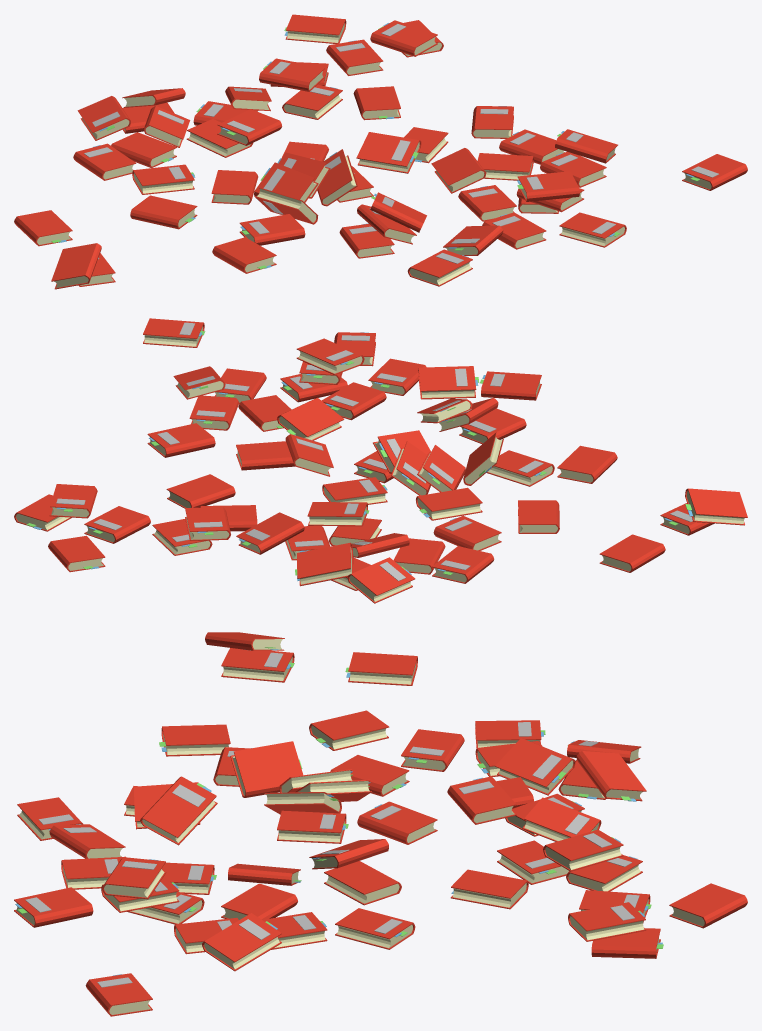
Rendered from booksPile.fbx.
The picture shows the model from 3 angles, top to bottom: view 1: azimuth 30°, elevation 25°; view 2: azimuth 150°, elevation 25°; view 3: azimuth 270°, elevation 25°; orthographic projection. The views are drawn at different scales.
Parts seen in each view (by area): view 1: book_01.859; view 2: book_01.859; view 3: book_01.859.
Part boxes in pixels (x1,y1,x2,y2): book_01.859: (14,14,747,289); book_01.859: (14,318,747,603); book_01.859: (14,632,747,1016).
Bounding box in the file's own units: 410 × 21.68 × 340.
